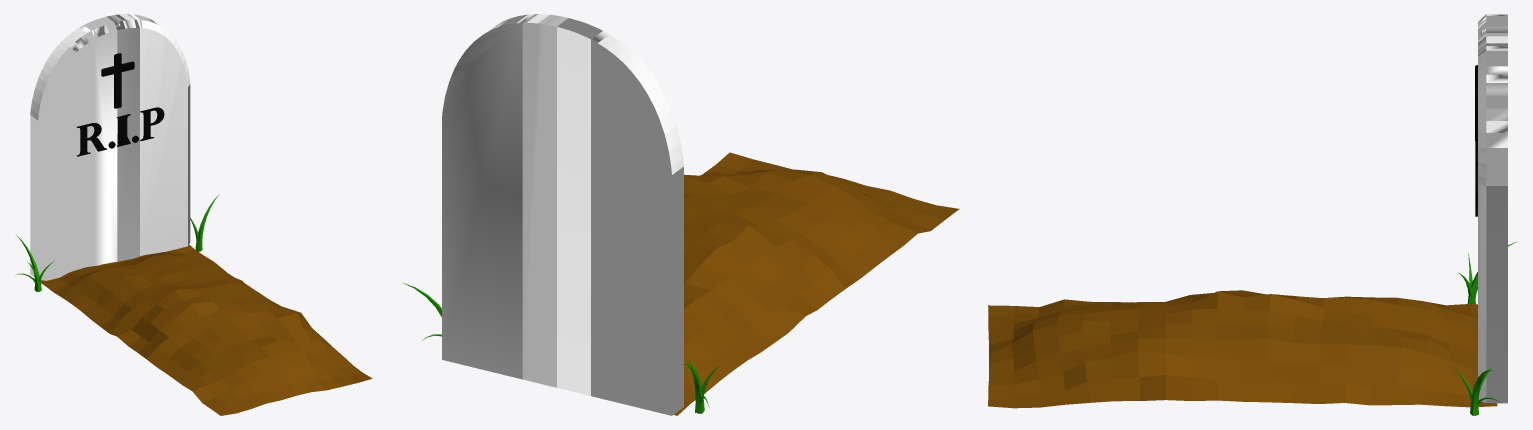
The model's file is Grave.fbx.
3 views of the same model, side by side, from view 1: azimuth 30°, elevation 25°; view 2: azimuth 150°, elevation 25°; view 3: azimuth 270°, elevation 25° (orthographic). The views are drawn at different scales.
Visible parts, largest first — view 1: Extrude_1, Dirt_Bed, Cap_1, Cube, Cap_1_5; view 2: Extrude_1, Dirt_Bed; view 3: Dirt_Bed, Extrude_1.
Boxes of the visible parts, x1,y1,x2,y2 form: Extrude_1: (30, 14, 190, 280); Dirt_Bed: (40, 244, 372, 415); Cap_1: (77, 123, 107, 156); Cube: (114, 53, 121, 108); Cap_1_5: (141, 108, 164, 141); Extrude_1: (442, 14, 683, 415); Dirt_Bed: (674, 152, 959, 415); Dirt_Bed: (988, 290, 1497, 408); Extrude_1: (1478, 14, 1507, 403).
Size of the model in its own units: 539 by 616 by 885.
